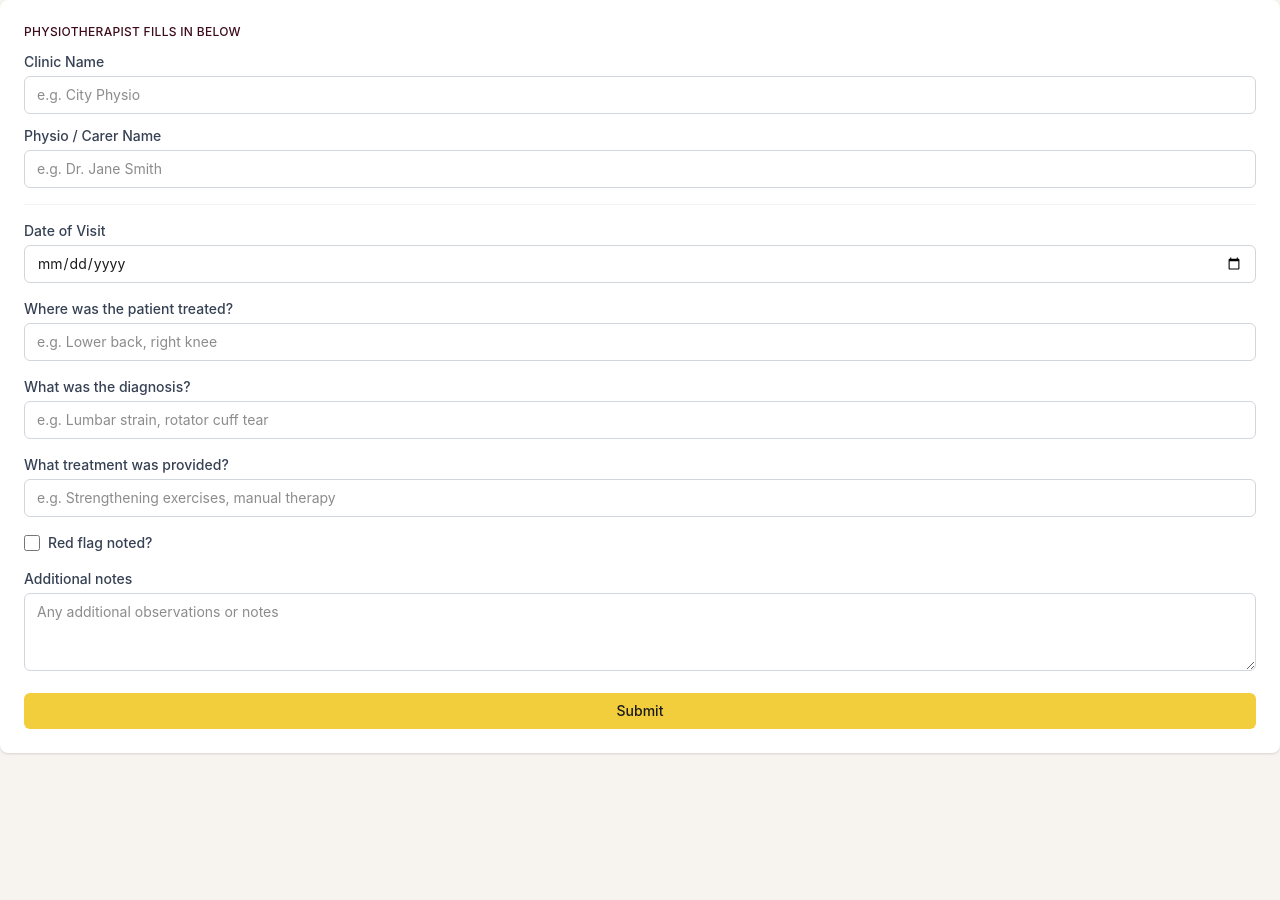
Scenario: PatientPresentForm › shows error message on API failure
Click the button "Submit".
click(640, 711)  # box x1=24 y1=693 x2=1256 y2=729
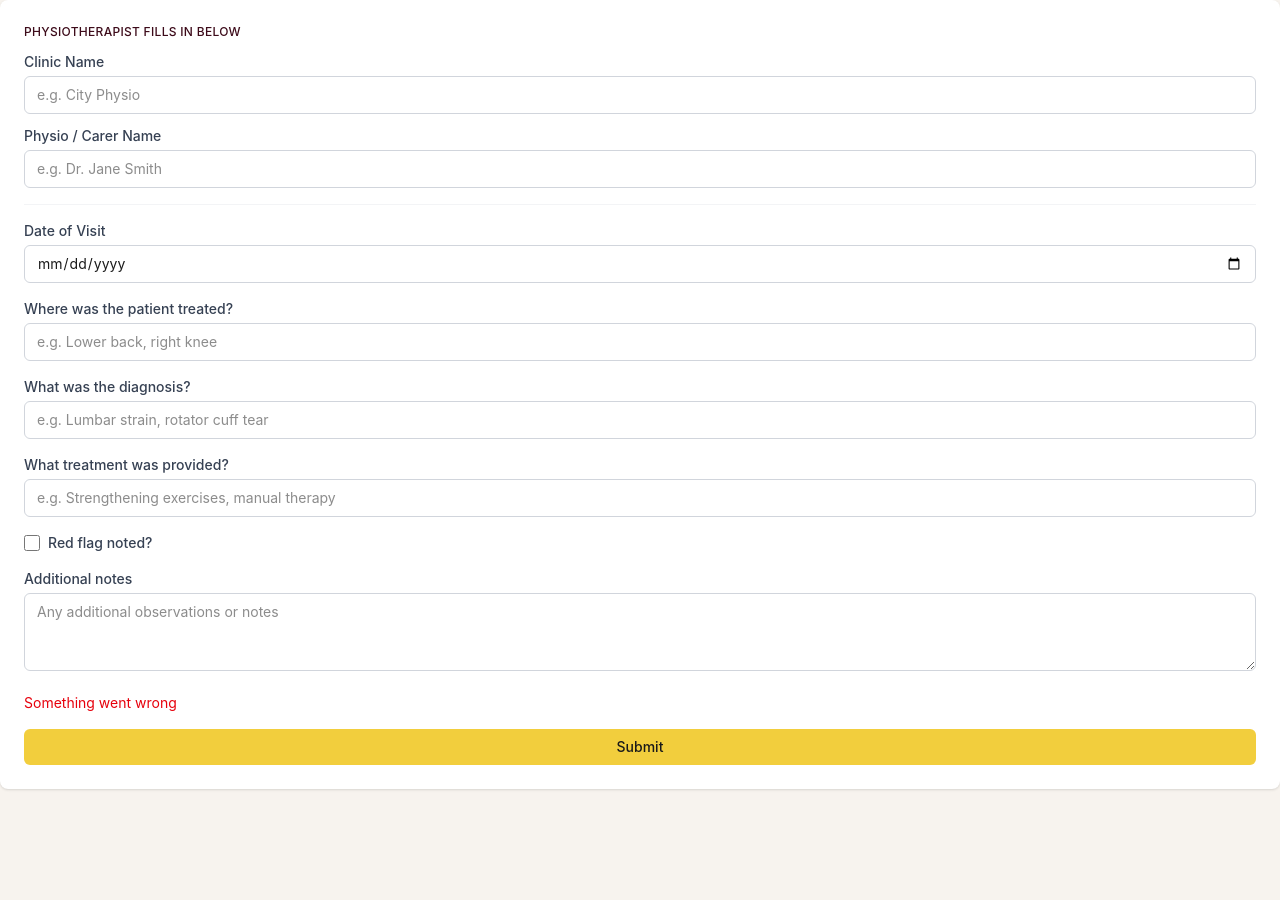
expect the text "Something went wrong" is shown: met, box x1=24 y1=694 x2=177 y2=711
